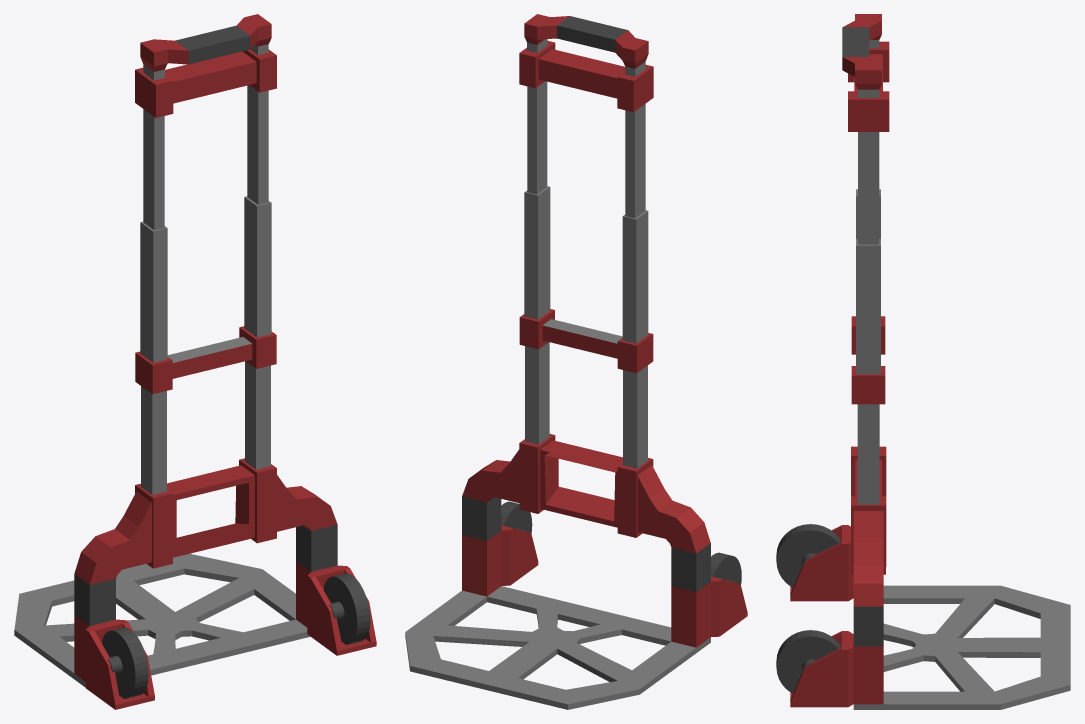
Rendered from Handstapler.fbx.
3 renders of one model, left to right at view 1: azimuth 30°, elevation 25°; view 2: azimuth 150°, elevation 25°; view 3: azimuth 270°, elevation 25°, orthographic. The views are drawn at different scales.
Visible parts, largest first — view 1: Plane, Plane.002, Cylinder, Plane.001, Plane.003; view 2: Plane, Plane.002, Plane.001, Plane.003, Cylinder; view 3: Plane, Plane.002, Cylinder, Plane.001, Plane.003.
Part boxes in pixels (<box>): Plane: <box>14,44,310,687</box>; Plane.002: <box>74,14,376,709</box>; Cylinder: <box>102,573,370,698</box>; Plane.001: <box>74,524,337,625</box>; Plane.003: <box>175,25,250,64</box>; Plane: <box>405,39,710,709</box>; Plane.002: <box>462,14,747,647</box>; Plane.001: <box>462,496,710,592</box>; Plane.003: <box>557,16,627,52</box>; Cylinder: <box>501,501,741,584</box>; Plane: <box>853,40,1070,709</box>; Plane.002: <box>790,14,889,707</box>; Cylinder: <box>776,524,841,693</box>; Plane.001: <box>853,606,883,646</box>; Plane.003: <box>842,27,869,56</box>.
Size of the model in its own units: 2.11 by 4.79 by 2.1.
